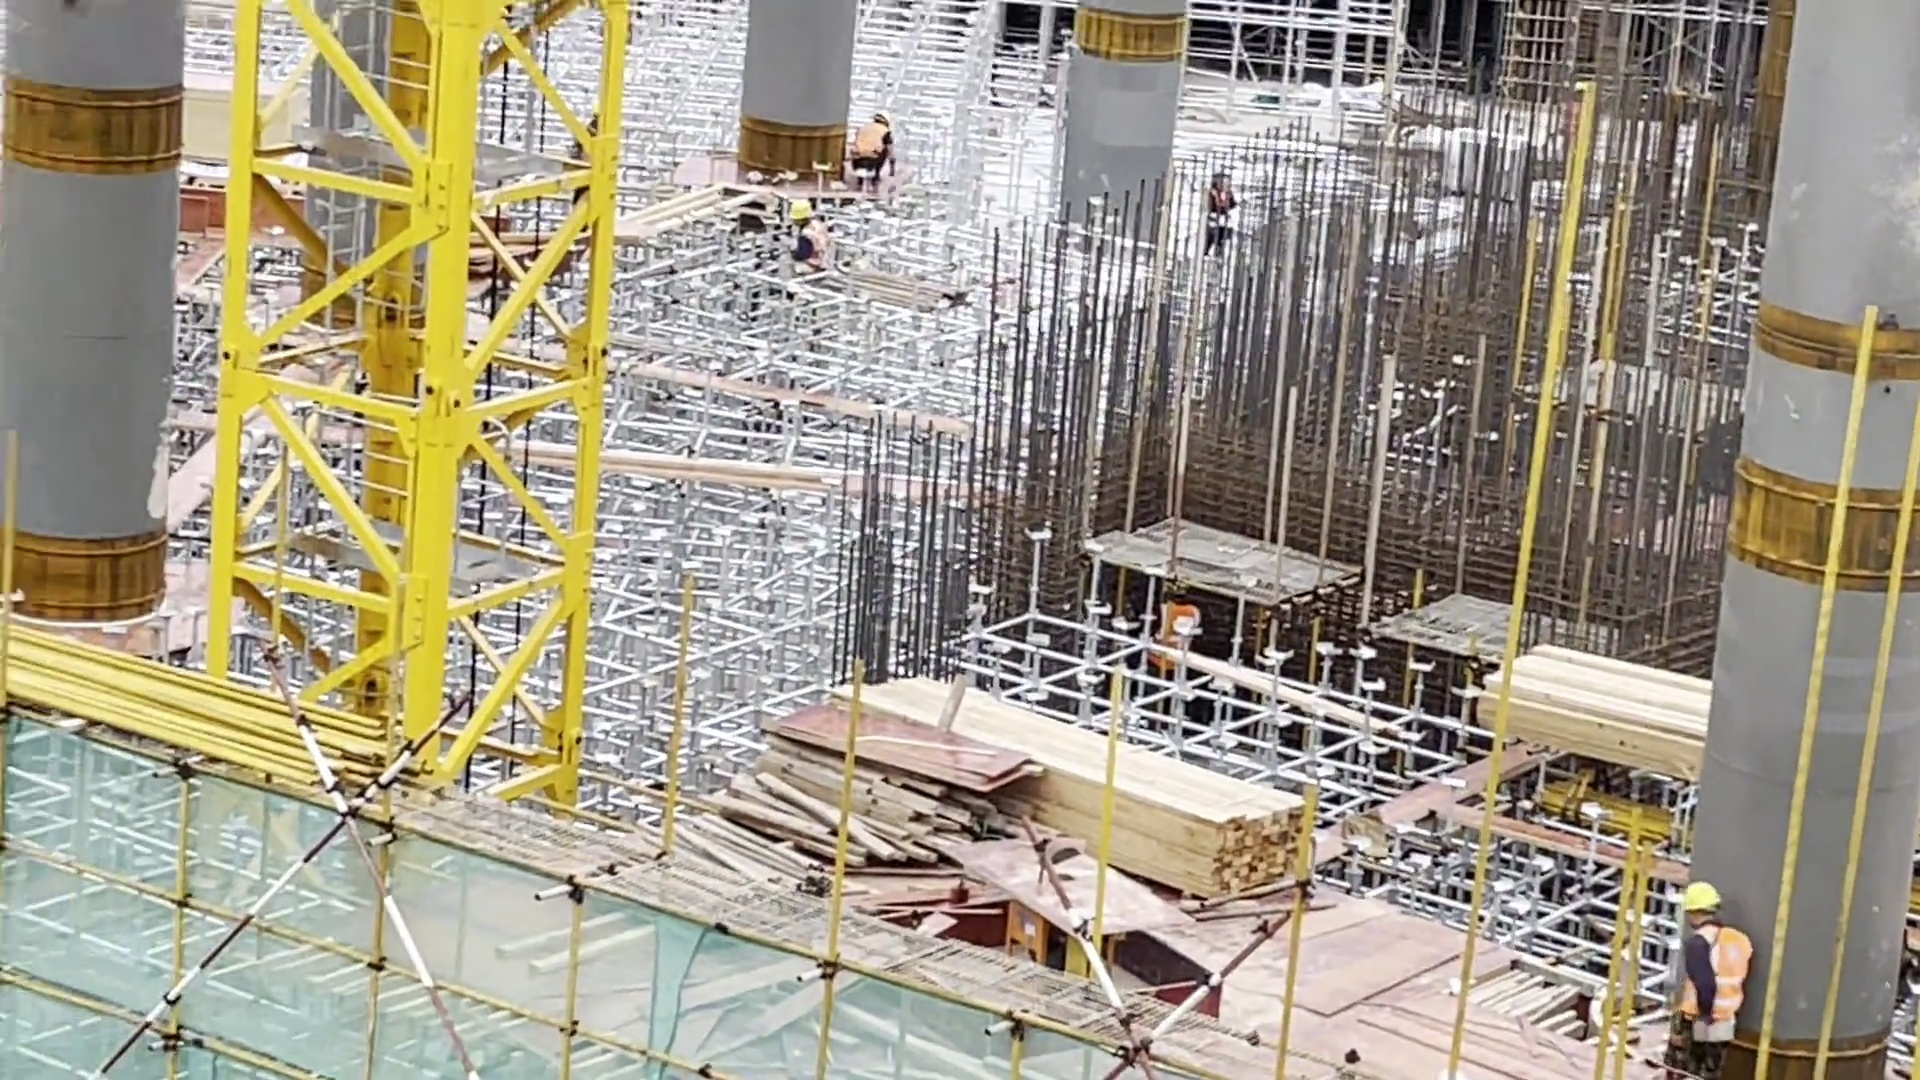helmet: (1672, 875, 1732, 919), (783, 190, 820, 221), (862, 95, 891, 131), (1202, 161, 1234, 180)
person: (1677, 874, 1754, 1080), (840, 99, 905, 184), (776, 193, 833, 278), (1207, 166, 1241, 253)
vest: (1687, 925, 1747, 1022), (792, 221, 825, 267), (858, 124, 884, 155)
